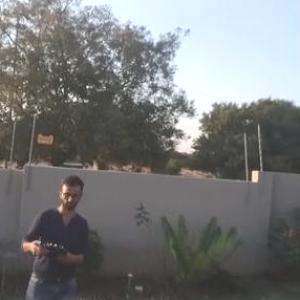follow: (14, 165, 96, 299)
